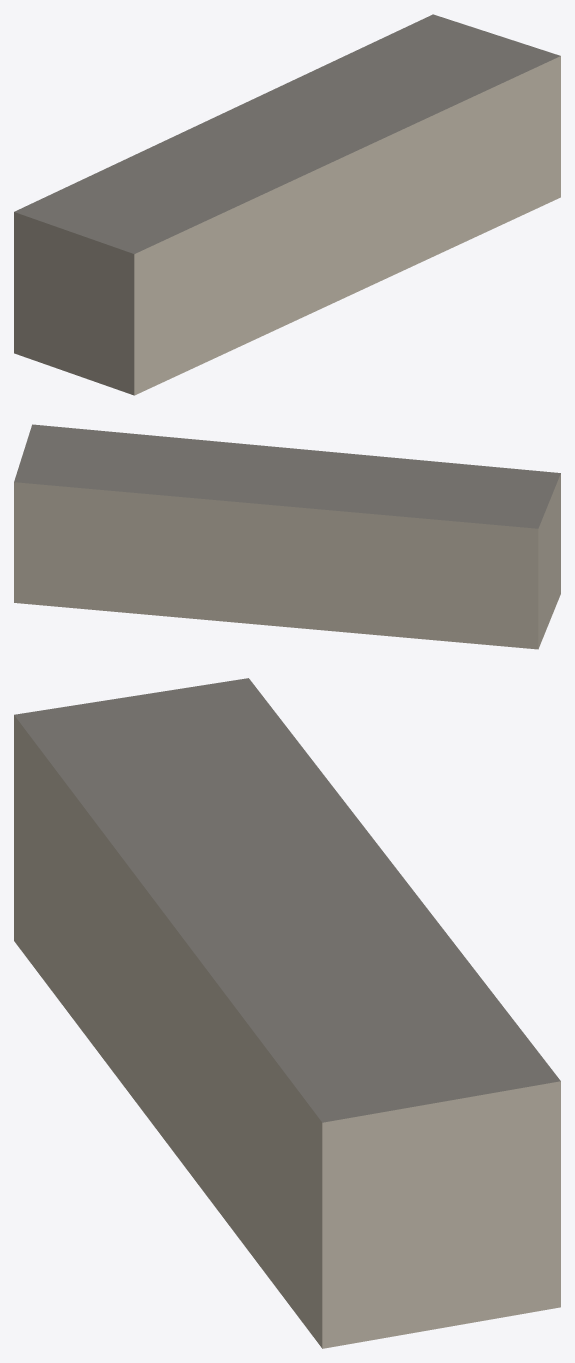
The picture shows the model from 3 angles, top to bottom: view 1: azimuth 30°, elevation 25°; view 2: azimuth 150°, elevation 25°; view 3: azimuth 270°, elevation 25°; orthographic projection. The views are drawn at different scales.
Parts seen in each view (by area): view 1: HP-w1512911270; view 2: HP-w1512911270; view 3: HP-w1512911270.
Part boxes in pixels (x1,y1,x2,y2): HP-w1512911270: [14, 14, 560, 395]; HP-w1512911270: [14, 424, 560, 649]; HP-w1512911270: [14, 678, 560, 1348].
Bounding box in the file's own units: 75.9 × 18 × 39.46.
